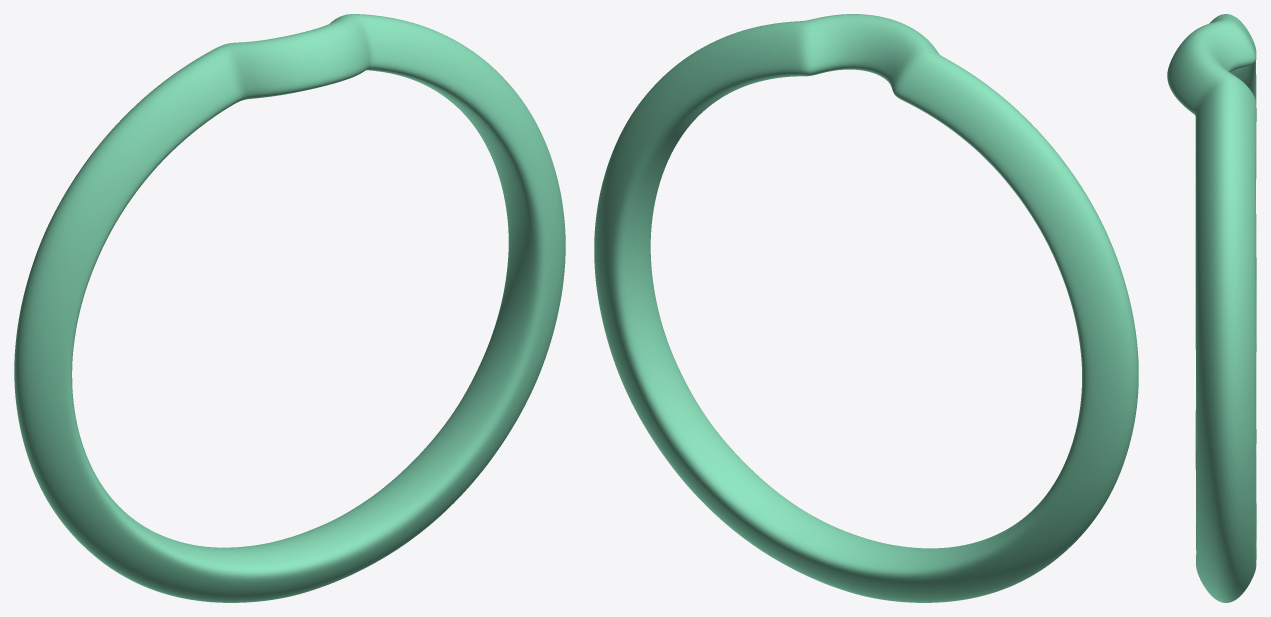
3 views of the same model, side by side, from view 1: azimuth 30°, elevation 25°; view 2: azimuth 150°, elevation 25°; view 3: azimuth 270°, elevation 25° (orthographic). The views are drawn at different scales.
Parts seen in each view (by area): view 1: Metal03; view 2: Metal03; view 3: Metal03.
Part boxes in pixels (x1=…): Metal03: x1=14, y1=14, x2=565, y2=602; Metal03: x1=594, y1=14, x2=1138, y2=602; Metal03: x1=1167, y1=14, x2=1256, y2=602.
Size of the model in its own units: 20.84 by 20.83 by 3.17.
